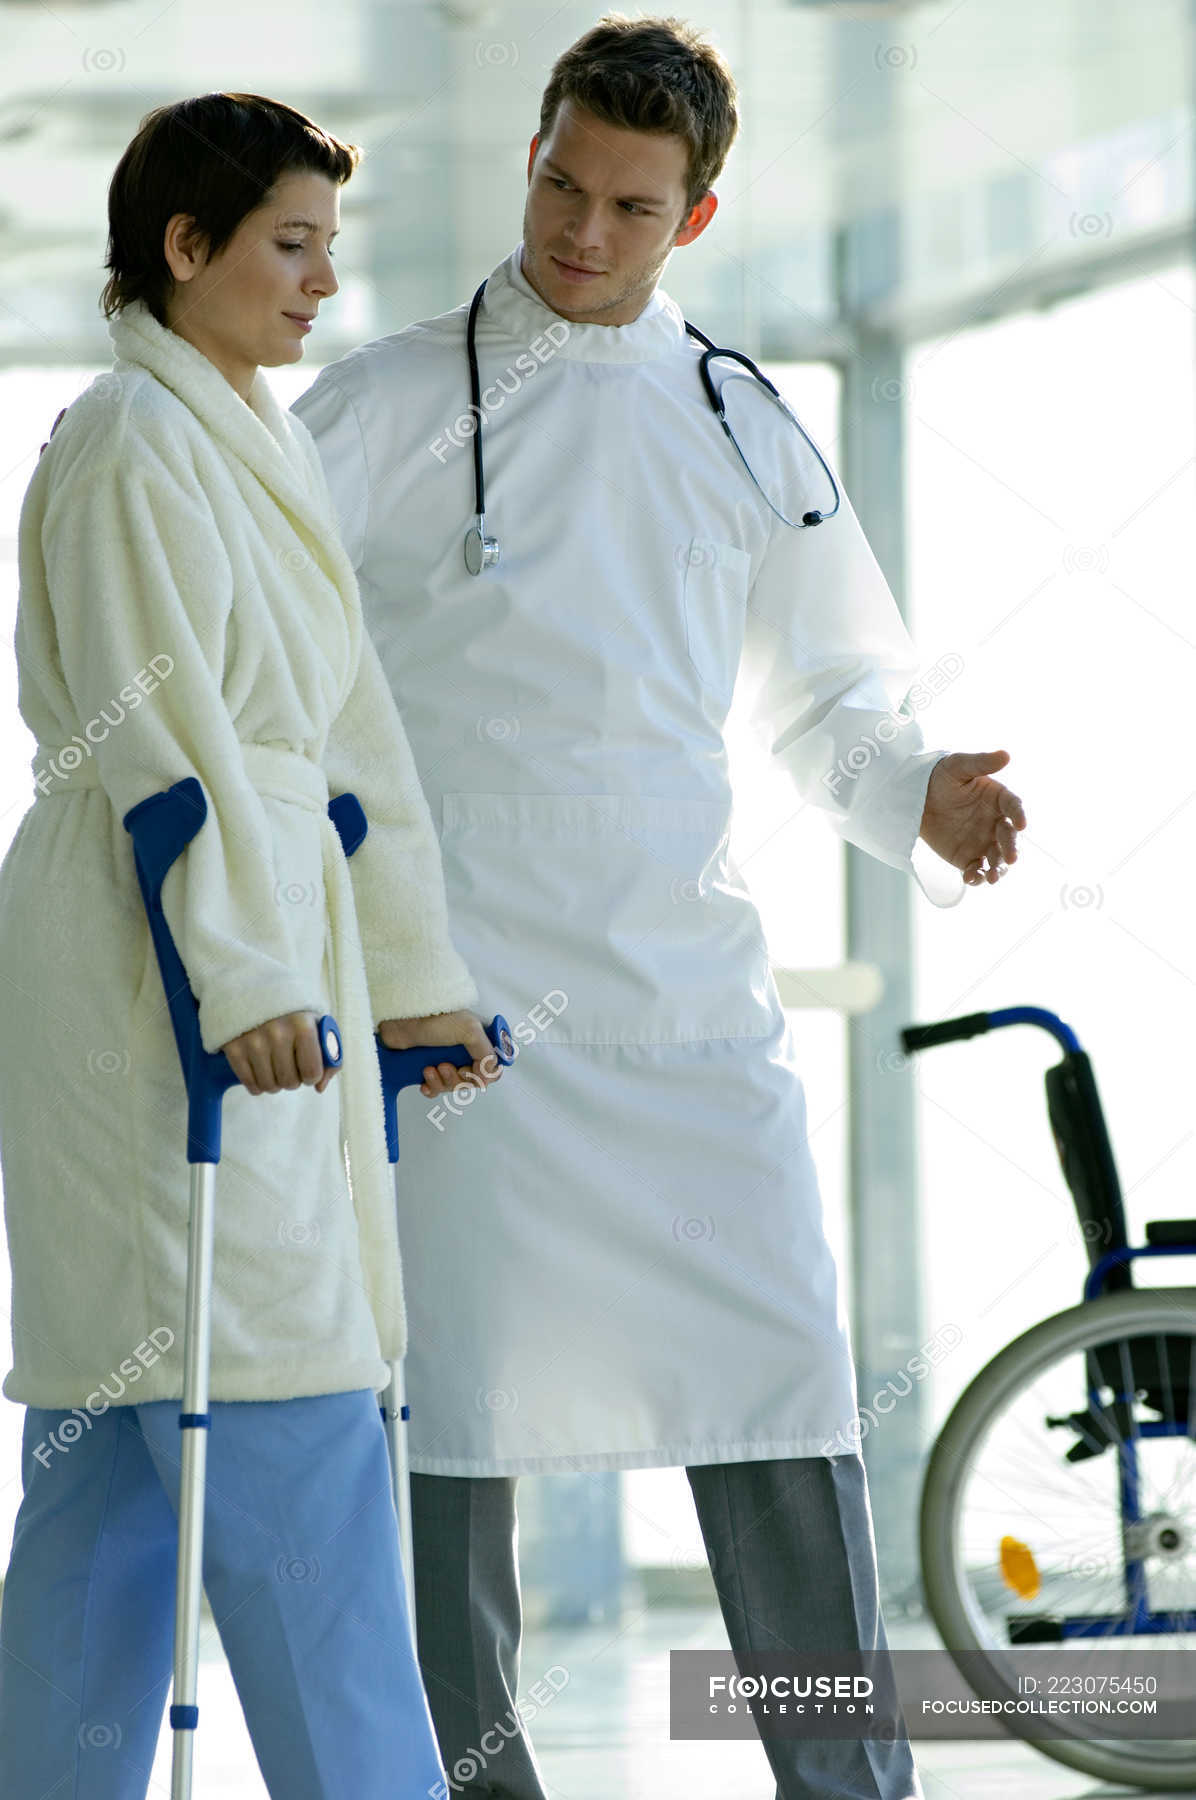crutches: (5, 92, 517, 1800)
